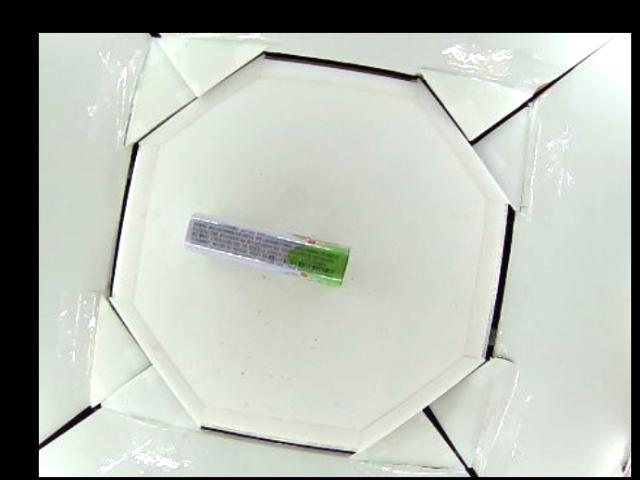Bottle: (181, 209, 352, 292)
